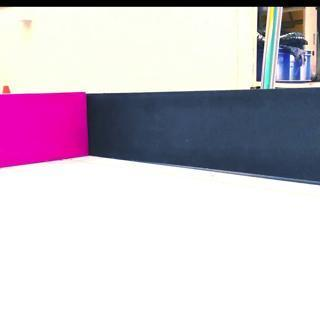xparking: (0, 93, 85, 155)
